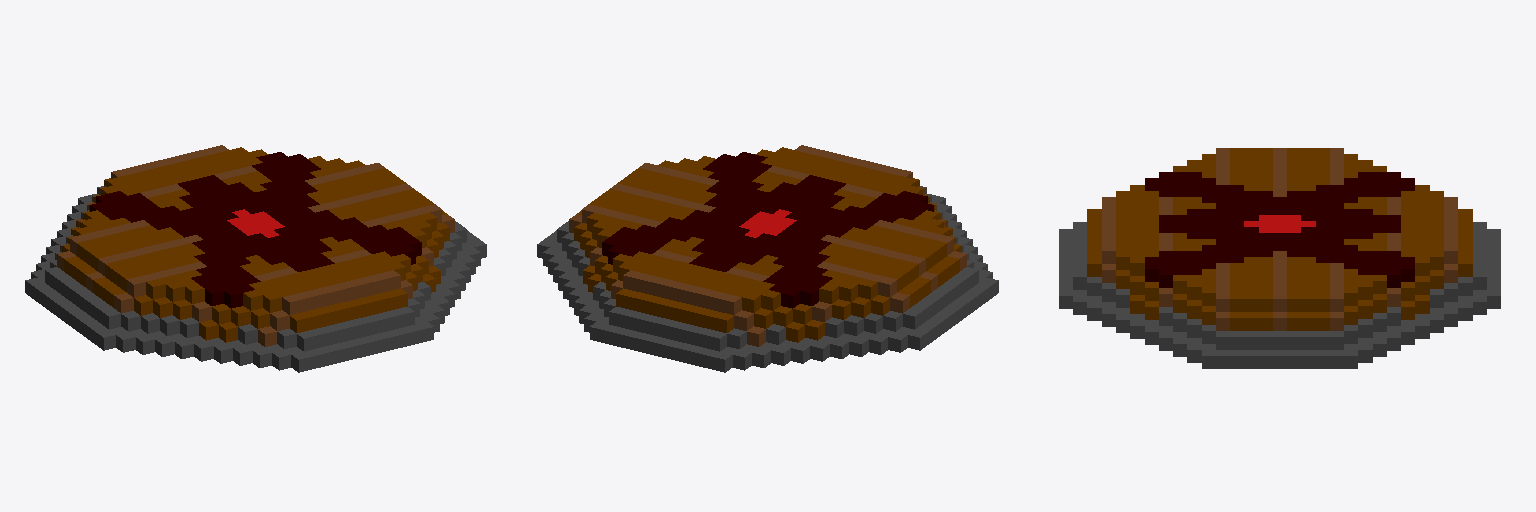
The picture shows the model from 3 angles: view 1: azimuth 30°, elevation 25°; view 2: azimuth 150°, elevation 25°; view 3: azimuth 270°, elevation 25°; orthographic projection.
Parts seen in each view (by area): view 1: Model; view 2: Model; view 3: Model.
Boxes of the visible parts, box(x1,y1,x2,y2) form: Model: box(25, 145, 486, 372); Model: box(537, 145, 998, 372); Model: box(1059, 148, 1500, 368).
Size of the model in its own units: 32 by 5.16 by 32.
1 materials, 1 textured.